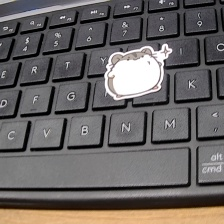mouse: (102, 41, 174, 103)
